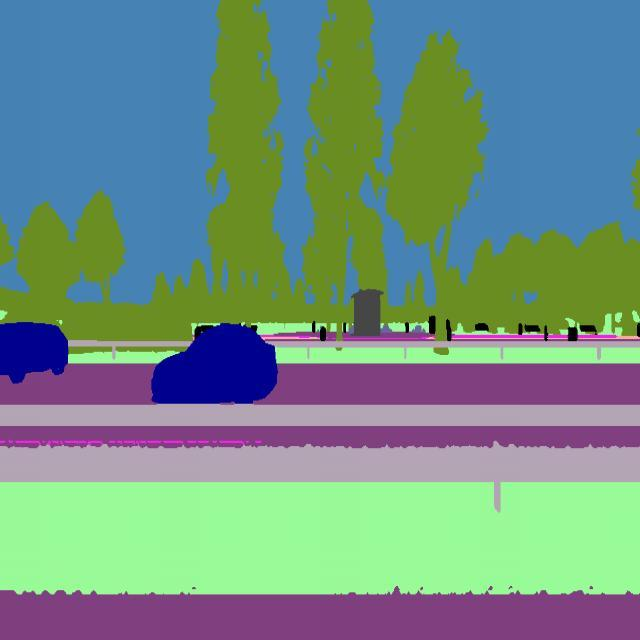safe: (150, 321, 280, 407), (0, 315, 70, 383)
